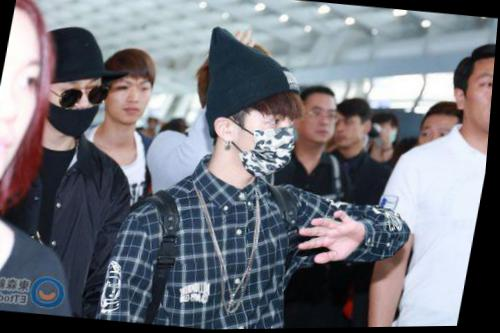NONE: (1, 60, 52, 185), (460, 68, 495, 134), (107, 76, 154, 125), (417, 125, 459, 162), (308, 108, 344, 143), (332, 119, 365, 152)
OK: (232, 101, 310, 175)
WRONG: (45, 78, 111, 142)
